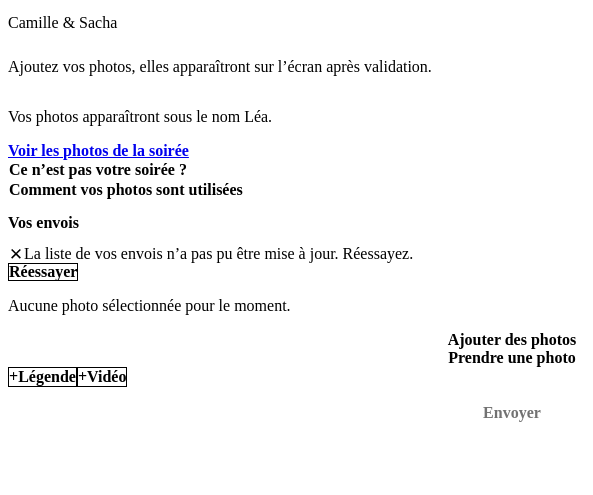
Test: GuestUploadPage › says what to do when the guest’s own photos cannot be fetched, and retries
Expected: the message reads "La liste de vos envois n’a pas pu être mise à jour. Réessayez.", 24,245 -> 413,262
What coordinates should you click on to do the following:
click the button "Réessayer"
I would click on:
 (43, 272)
Its box is 8,263 -> 78,281.
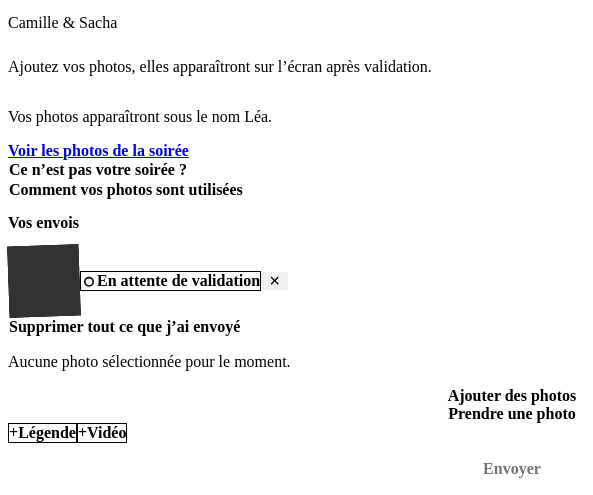
Expected: the text "En attente de validation" is shown, 80,271 -> 261,291
